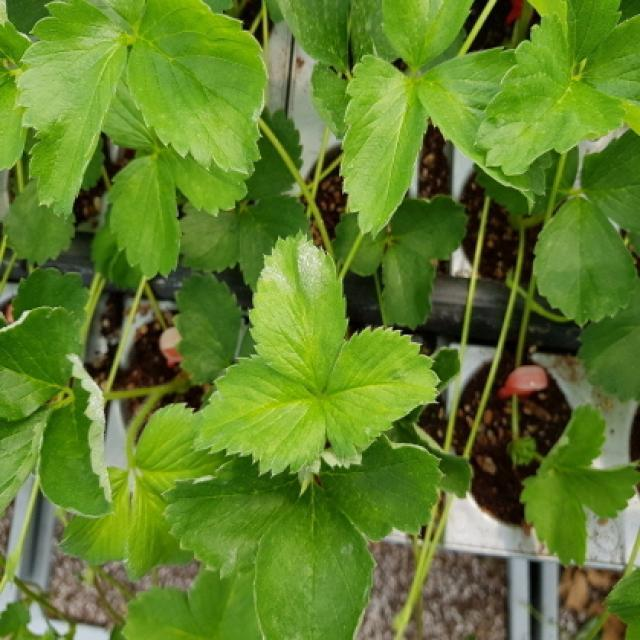Health_25: (125, 0, 269, 174), (246, 228, 350, 395), (35, 354, 115, 519), (0, 306, 85, 423)
